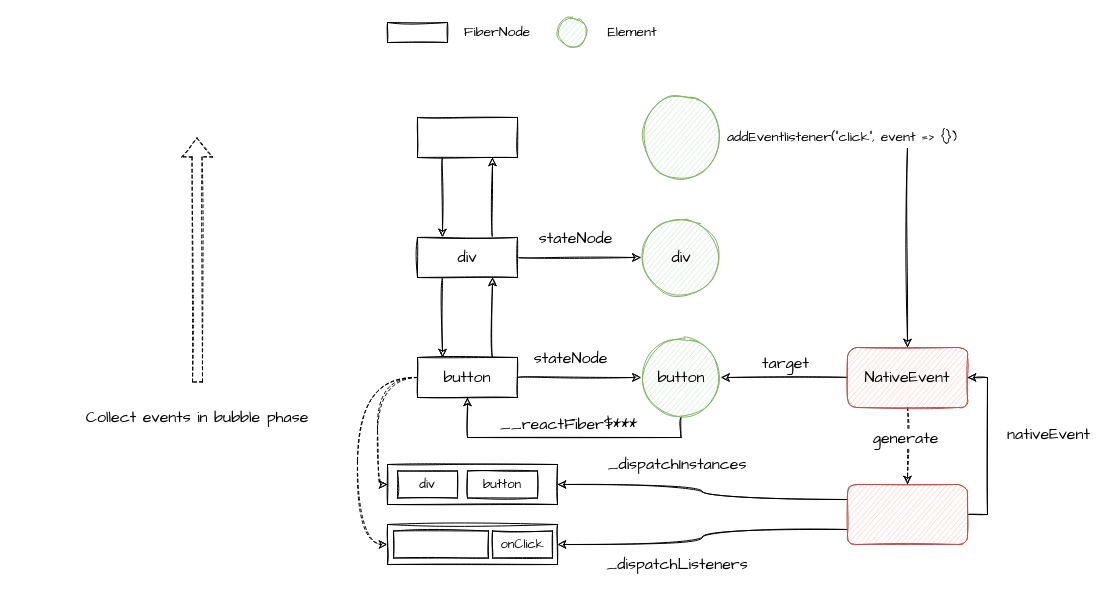
This 1106x592 diagram has some shape labels left out. Here are the shapes that lost their labels. From the top down, the centre of each, then its label:
At pixel 467 137: "App".
At pixel 680 137: "div#root".
At pixel 907 514: "SyntheticEvent".
At pixel 440 544: "onClickCapture".
